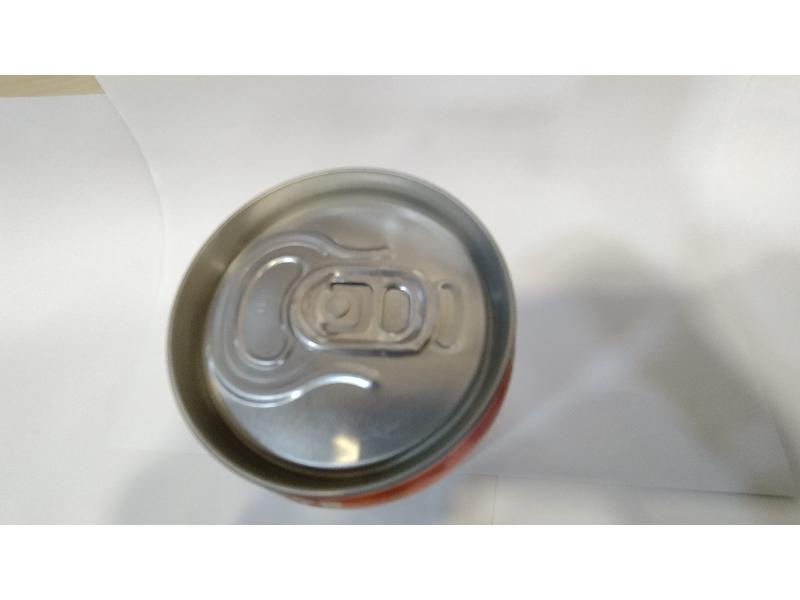can: (167, 166, 516, 495)
